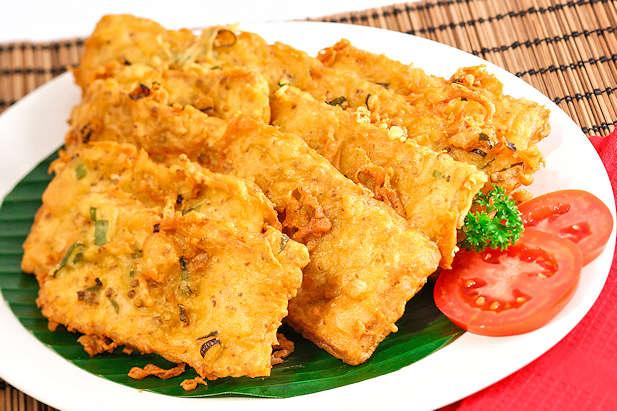buah_sayur_vitA: (455, 256, 550, 314), (537, 200, 596, 256)
kacang_legume: (126, 98, 468, 209), (89, 244, 275, 347)
